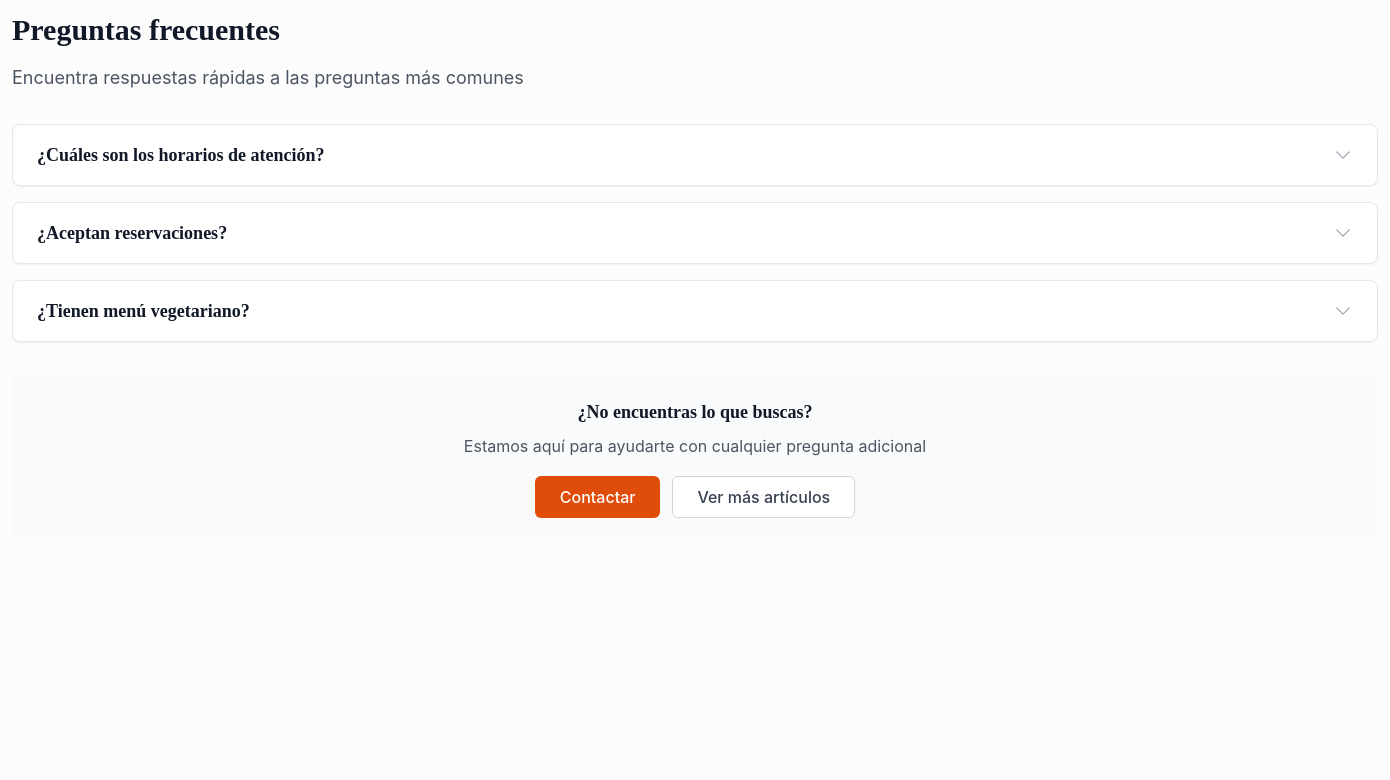
it: FAQ Component › has proper Schema.org microdata
The image size is (1390, 780).
// Open first item to check answer microdata
Step 1. Click the button "¿Cuáles son los horarios de atención?" → (181, 155), box [13,125,1377,185]
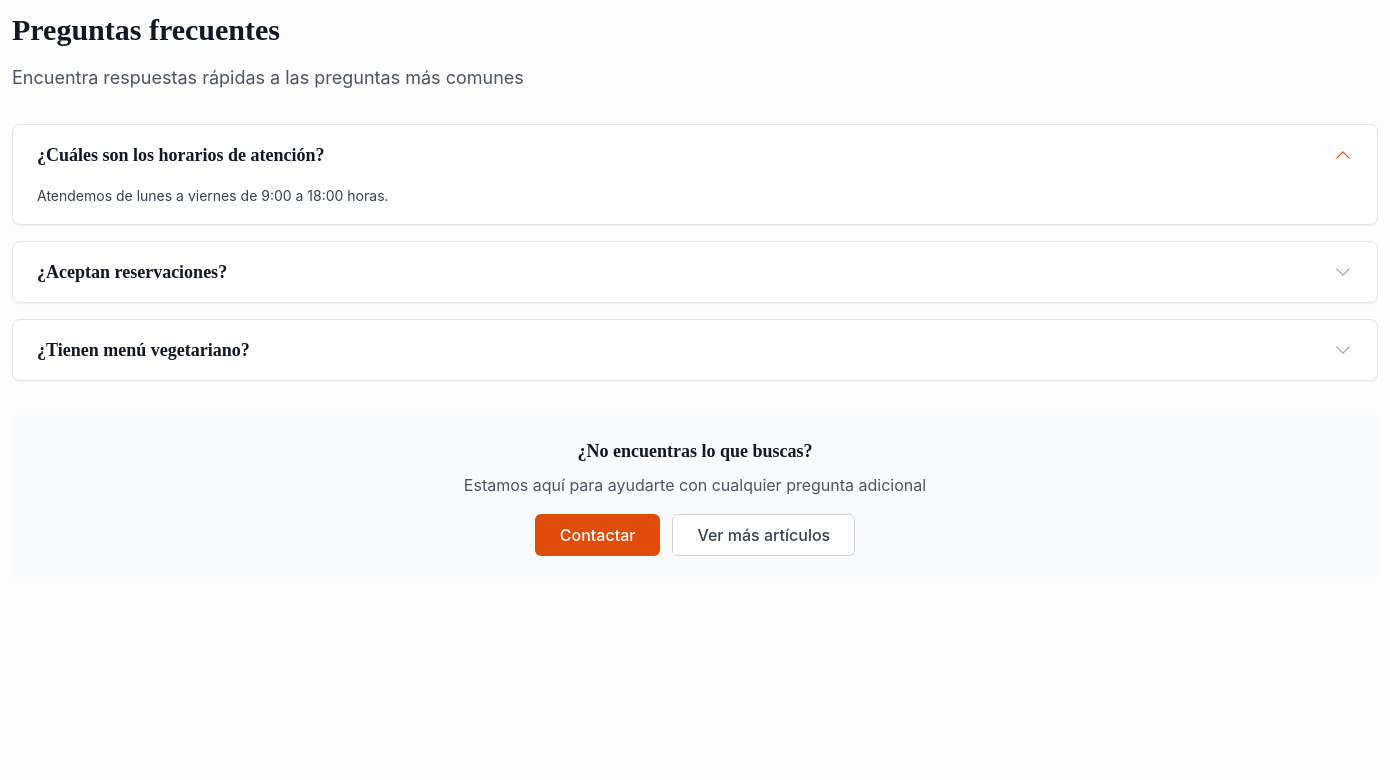
expect the text "Atendemos de lunes a viernes de 9:00 a 18:00 horas." is shown: met, box [37,187,389,204]
